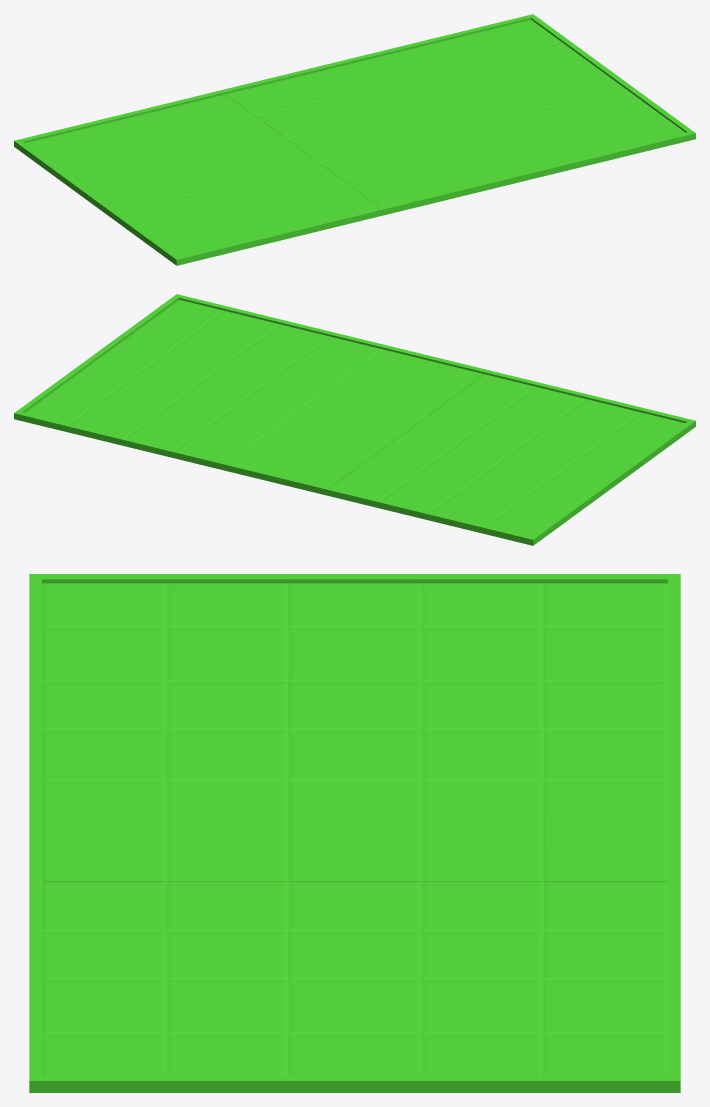
Rendered from BattleGround.fbx.
The picture shows the model from 3 angles, top to bottom: view 1: azimuth 30°, elevation 25°; view 2: azimuth 150°, elevation 25°; view 3: azimuth 270°, elevation 25°; orthographic projection. The views are drawn at different scales.
Visible parts, largest first — view 1: Cube.003; view 2: Cube.003; view 3: Cube.003.
Boxes of the visible parts, left/top/right/bottom form: Cube.003: left=14, top=14, right=695, bottom=265; Cube.003: left=14, top=294, right=695, bottom=545; Cube.003: left=29, top=574, right=680, bottom=1092.
Size of the model in its own units: 51086 by 566 by 27744.
